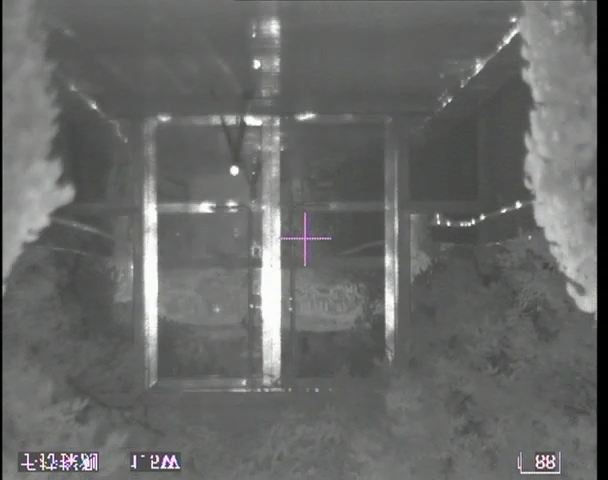my: (228, 164, 240, 177)
